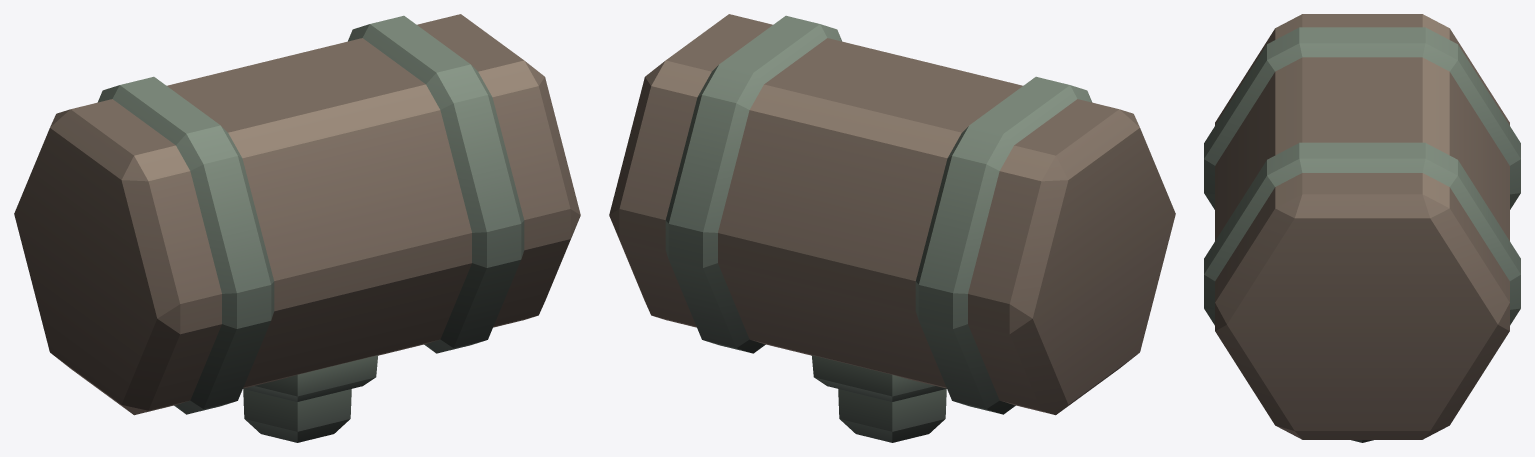
File: hammer-head_004.fbx
3 renders of one model, left to right at view 1: azimuth 30°, elevation 25°; view 2: azimuth 150°, elevation 25°; view 3: azimuth 270°, elevation 25°, orthographic. The views are drawn at different scales.
Parts seen in each view (by area): view 1: hammer-head.004; view 2: hammer-head.004; view 3: hammer-head.004.
Part boxes in pixels (x1,y1,x2,y2): hammer-head.004: (14,14,580,442); hammer-head.004: (609,14,1175,442); hammer-head.004: (1204,14,1520,442).
Size of the model in its own units: 42.86 by 33.93 by 29.36.
